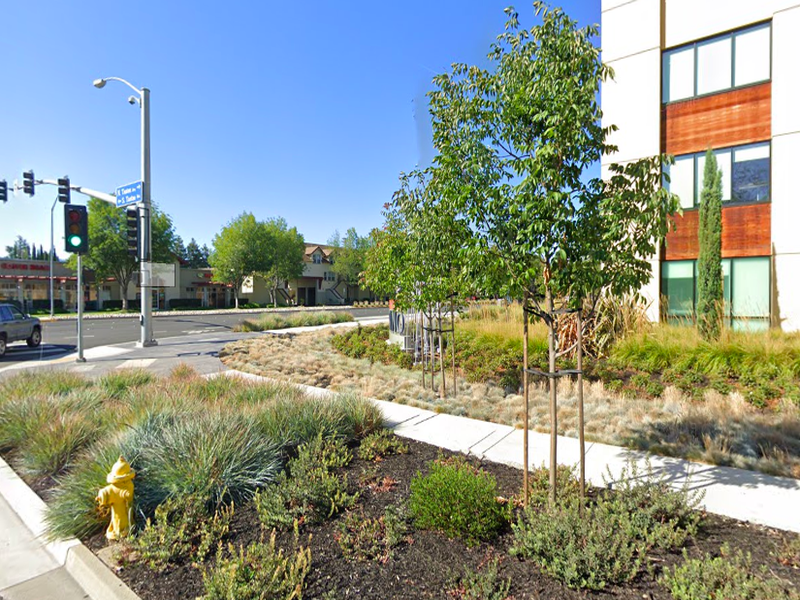tree: (425, 1, 684, 519), (358, 167, 488, 395), (696, 146, 728, 348)
